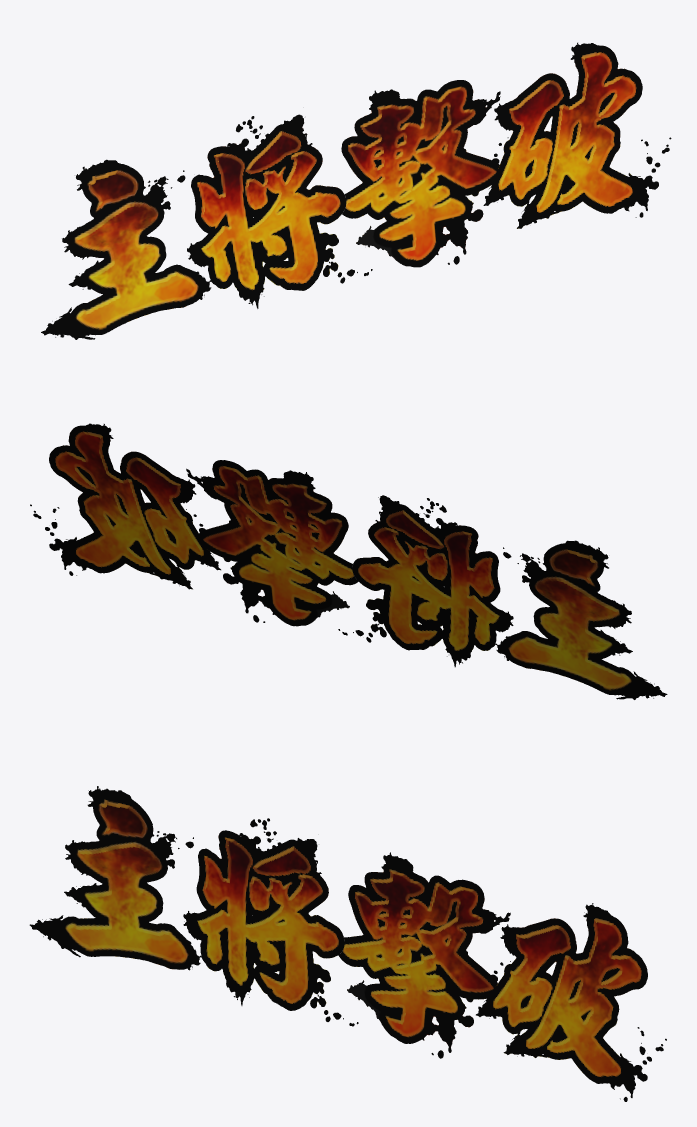
File: effect_congratulation.FBX
3 views of the same model, one above another, from view 1: azimuth 30°, elevation 25°; view 2: azimuth 150°, elevation 25°; view 3: azimuth 330°, elevation 25° (orthographic).
Visible parts, largest first — view 1: effect_congratulation_ad_2, effect_congratulation_ad_3, effect_congratulation_ad_4, effect_congratulation_1, effect_congratulation_3; view 2: effect_congratulation_ad_3, effect_congratulation_2, effect_congratulation_4, effect_congratulation_ad_1, effect_congratulation_3; view 3: effect_congratulation_3, effect_congratulation_ad_2, effect_congratulation_ad_4, effect_congratulation_1, effect_congratulation_ad_3.
Part boxes in pixels (box(x1,y1,x2,y2)): effect_congratulation_ad_2: box(187, 114, 372, 308); effect_congratulation_ad_3: box(341, 80, 501, 267); effect_congratulation_ad_4: box(483, 42, 671, 228); effect_congratulation_1: box(41, 159, 211, 339); effect_congratulation_3: box(352, 80, 508, 267); effect_congratulation_ad_3: box(186, 460, 358, 626); effect_congratulation_2: box(338, 495, 513, 667); effect_congratulation_4: box(30, 423, 220, 589); effect_congratulation_ad_1: box(495, 540, 667, 699); effect_congratulation_3: box(186, 470, 354, 626); effect_congratulation_3: box(338, 852, 510, 1056); effect_congratulation_ad_2: box(183, 818, 358, 1026); effect_congratulation_ad_4: box(476, 903, 666, 1101); effect_congratulation_1: box(29, 786, 201, 970); effect_congratulation_ad_3: box(382, 922, 502, 1058).
Bounding box in the file's own units: 764 × 222 × 36.15.
Materials: 4 (4 with a texture image).
